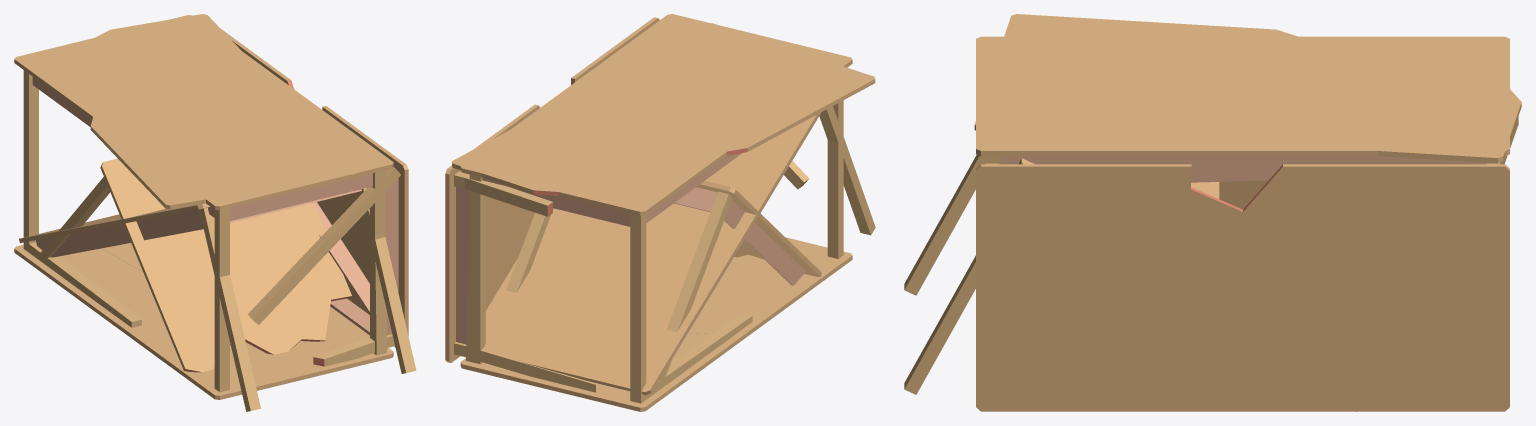
Rendered from Table1.fbx.
The picture shows the model from 3 angles, left to right: view 1: azimuth 30°, elevation 25°; view 2: azimuth 150°, elevation 25°; view 3: azimuth 270°, elevation 25°; orthographic projection. The views are drawn at different scales.
Visible parts, largest first — view 1: TableWood1.1, TableWood1.3, TableWood1.5, TableWood1.4, TableWood1.2, TableWoodDetail1.1, TableWoodDetail1.2, TableWoodDetail1.3; view 2: TableWood1.2, TableWood1.1, TableWood1.3, TableWood1.4, TableWood1.5, TableWoodDetail1.1, TableWoodDetail1.2, TableWoodDetail1.3; view 3: TableWood1.4, TableWood1.1, TableWood1.3, TableWood1.2, TableWood1.5.
Boxes of the visible parts, box(x1,y1,x2,y2) form: TableWood1.1: box(14, 15, 393, 391); TableWood1.3: box(23, 14, 386, 355); TableWood1.5: box(39, 158, 351, 372); TableWood1.4: box(220, 28, 408, 366); TableWood1.2: box(19, 188, 416, 411); TableWoodDetail1.1: box(103, 243, 393, 399); TableWoodDetail1.2: box(14, 245, 392, 399); TableWoodDetail1.3: box(87, 288, 213, 395); TableWood1.2: box(483, 106, 875, 399); TableWood1.1: box(460, 14, 852, 403); TableWood1.3: box(452, 23, 875, 361); TableWood1.4: box(445, 17, 809, 392); TableWood1.5: box(506, 181, 821, 391); TableWoodDetail1.1: box(460, 237, 852, 389); TableWoodDetail1.2: box(460, 258, 852, 411); TableWoodDetail1.3: box(720, 260, 848, 356); TableWood1.4: box(976, 116, 1518, 411); TableWood1.1: box(976, 36, 1509, 174); TableWood1.3: box(974, 14, 1521, 182); TableWood1.2: box(904, 154, 1356, 411); TableWood1.5: box(1219, 180, 1267, 209).
Bounding box in the file's own units: 174 × 149 × 313.
